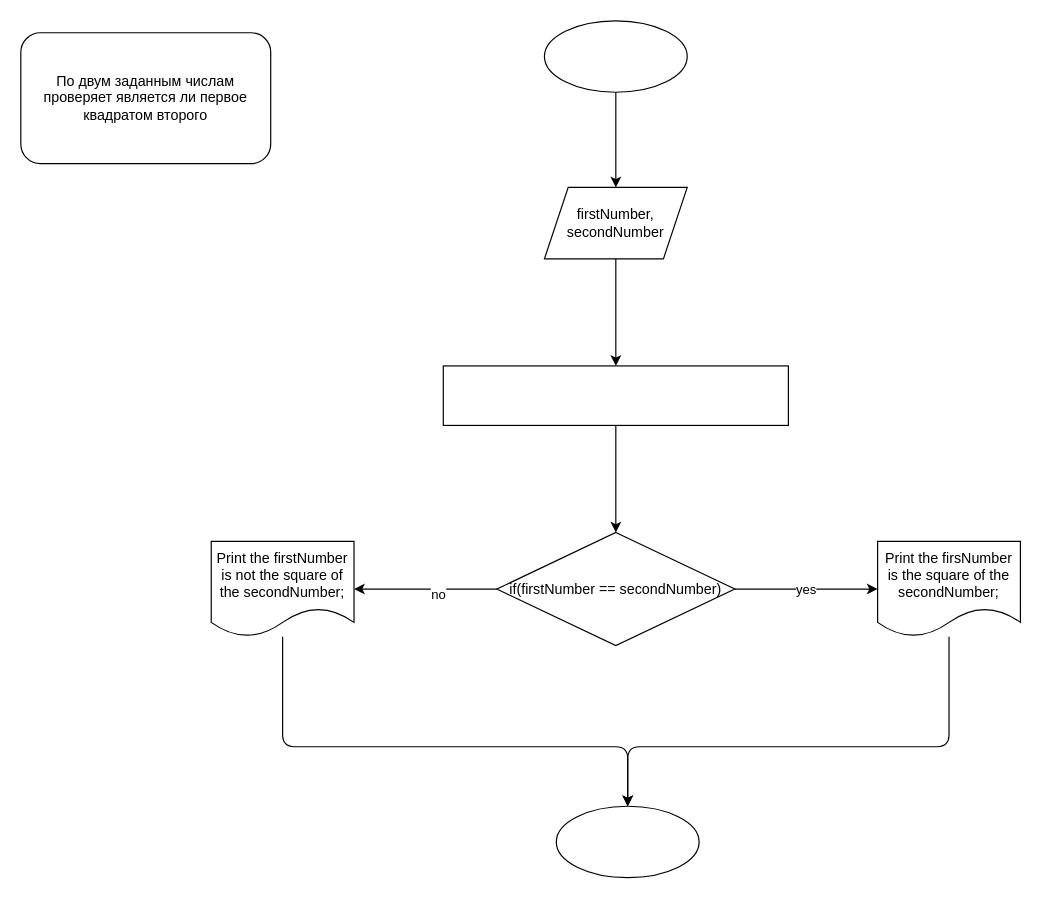
The diagram is 1041 pixels wide and 898 high, and some of its shapes have lost their labels. Each missing label, with the centre of its shape:
"End" goes at [627,841].
"firstNumber = firstNumber * firstNumber;" goes at [615,395].
"Start" goes at [615,56].
